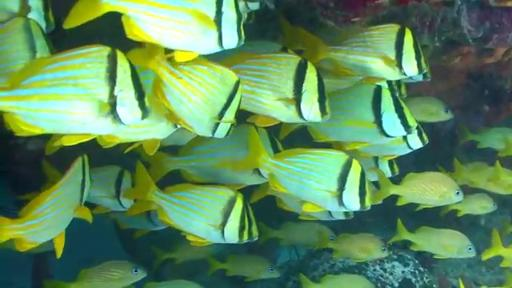Fish: (0, 44, 150, 144), (63, 0, 245, 61), (125, 162, 258, 245), (128, 48, 241, 137), (280, 17, 431, 82), (0, 156, 91, 258), (221, 52, 330, 127), (144, 124, 267, 187), (302, 84, 418, 148), (96, 66, 179, 155), (260, 148, 371, 211), (96, 109, 179, 155), (250, 183, 353, 220), (372, 172, 463, 209), (0, 17, 51, 83), (389, 219, 475, 258), (333, 125, 428, 159), (44, 261, 147, 287), (86, 165, 133, 213), (448, 160, 511, 195), (87, 166, 133, 213), (317, 233, 389, 262), (276, 194, 353, 220), (204, 40, 288, 63), (259, 222, 335, 247), (207, 255, 279, 281), (151, 242, 215, 271), (0, 0, 55, 32), (108, 211, 168, 238), (441, 159, 495, 186), (440, 193, 497, 216), (353, 153, 399, 181), (404, 96, 453, 122), (460, 127, 511, 151), (481, 229, 511, 267), (319, 68, 363, 93), (299, 274, 375, 287), (256, 127, 283, 155), (160, 128, 197, 147), (144, 280, 203, 287), (23, 241, 54, 254), (498, 138, 511, 157)
